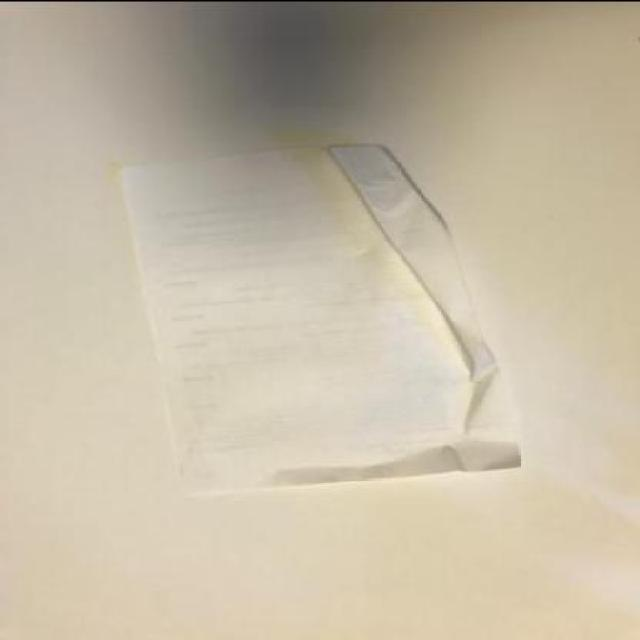PAPER: (119, 145, 522, 492)
